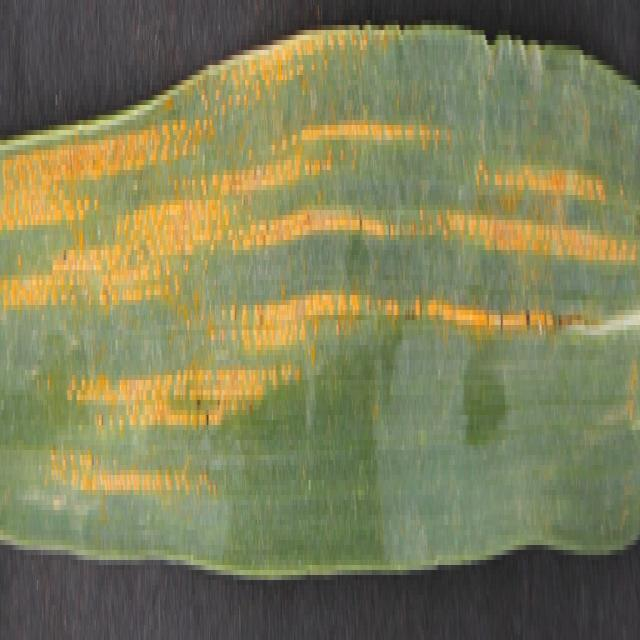leaf rust: (1, 15, 633, 525)
